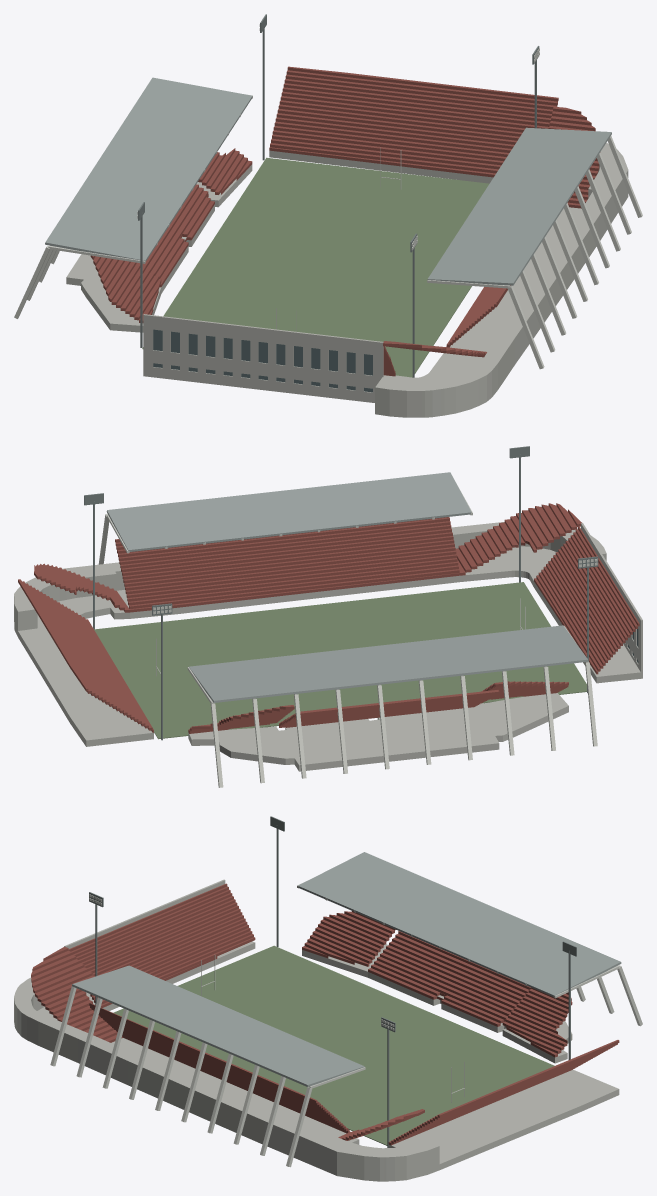
File: stade-mayol-toulon-near.glb
The picture shows the model from 3 angles, top to bottom: view 1: azimuth 30°, elevation 25°; view 2: azimuth 150°, elevation 25°; view 3: azimuth 270°, elevation 25°; orthographic projection. The views are drawn at different scales.
Visible parts, largest first — view 1: stade-mayol-toulon-0-field, stade-mayol-toulon-0-roof, stade-mayol-toulon-0-seats, stade-mayol-toulon-0-stone, stade-mayol-toulon-0-trim, stade-mayol-toulon-0-glass, stade-mayol-toulon-0-metal; view 2: stade-mayol-toulon-0-seats, stade-mayol-toulon-0-field, stade-mayol-toulon-0-roof, stade-mayol-toulon-0-stone, stade-mayol-toulon-0-trim, stade-mayol-toulon-0-metal; view 3: stade-mayol-toulon-0-seats, stade-mayol-toulon-0-field, stade-mayol-toulon-0-stone, stade-mayol-toulon-0-roof, stade-mayol-toulon-0-trim, stade-mayol-toulon-0-metal.
Boxes of the visible parts, x1,y1,x2,y2 form: stade-mayol-toulon-0-field: (142,157,489,377); stade-mayol-toulon-0-roof: (45,77,611,285); stade-mayol-toulon-0-seats: (90,66,600,376); stade-mayol-toulon-0-stone: (66,143,628,417); stade-mayol-toulon-0-trim: (14,24,642,369); stade-mayol-toulon-0-glass: (153,329,372,392); stade-mayol-toulon-0-metal: (138,14,539,377); stade-mayol-toulon-0-seats: (18,503,639,733); stade-mayol-toulon-0-field: (94,582,586,739); stade-mayol-toulon-0-roof: (106,472,588,702); stade-mayol-toulon-0-stone: (14,522,642,771); stade-mayol-toulon-0-trim: (98,476,597,787); stade-mayol-toulon-0-metal: (84,446,598,740); stade-mayol-toulon-0-seats: (31,883,619,1145); stade-mayol-toulon-0-field: (113,945,554,1145); stade-mayol-toulon-0-stone: (14,879,619,1181); stade-mayol-toulon-0-roof: (72,852,621,1086); stade-mayol-toulon-0-trim: (50,881,642,1167); stade-mayol-toulon-0-metal: (89,816,576,1147).
Bounding box in the file's own units: 187 × 42 × 188.
